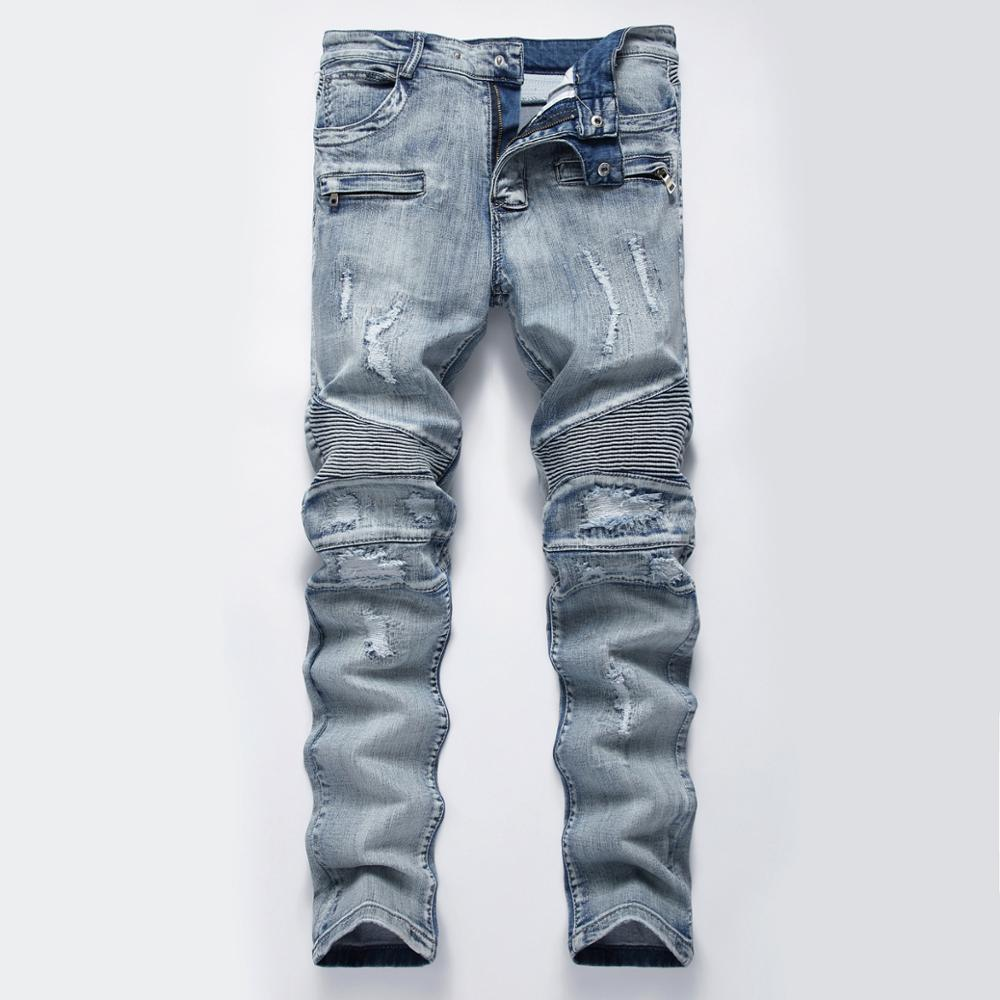jeans: (267, 25, 733, 959)
